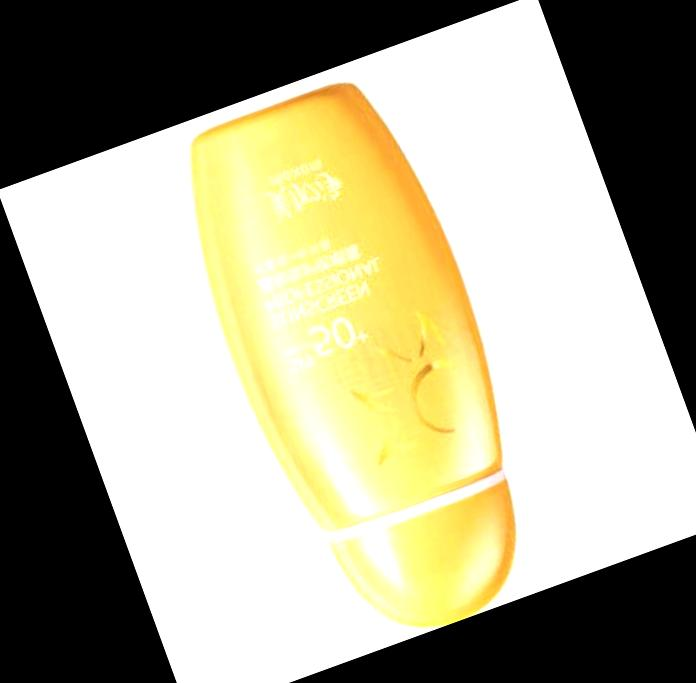cosmetic: (151, 62, 570, 663)
